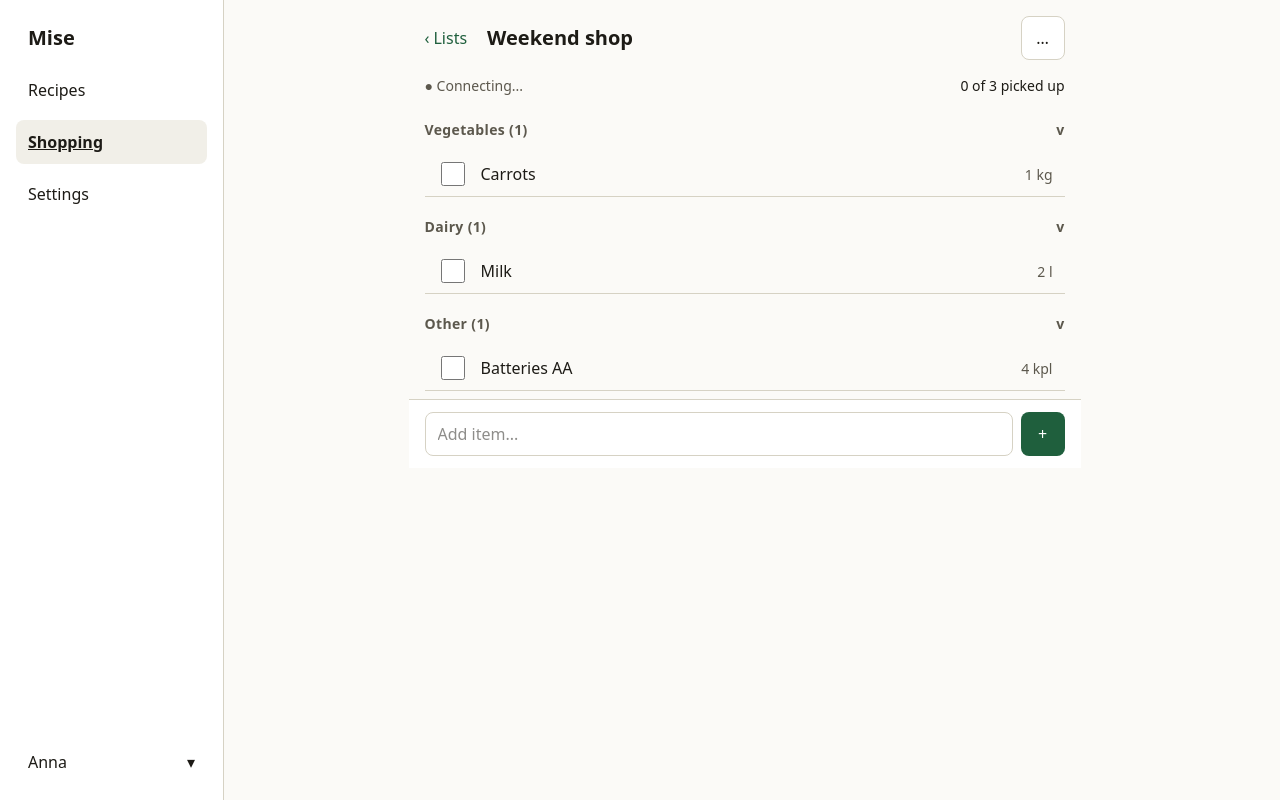
Test: adding an item (FR-35, FR-36, FR-39) › FR-35: a failed placeholder is announced as an alert
Expected: the text "Milk" is shown, [480, 259, 512, 283]
Type "Maito" into the field with test id "add-item-input" at [718, 434], box [424, 412, 1012, 456]
Then press Enter
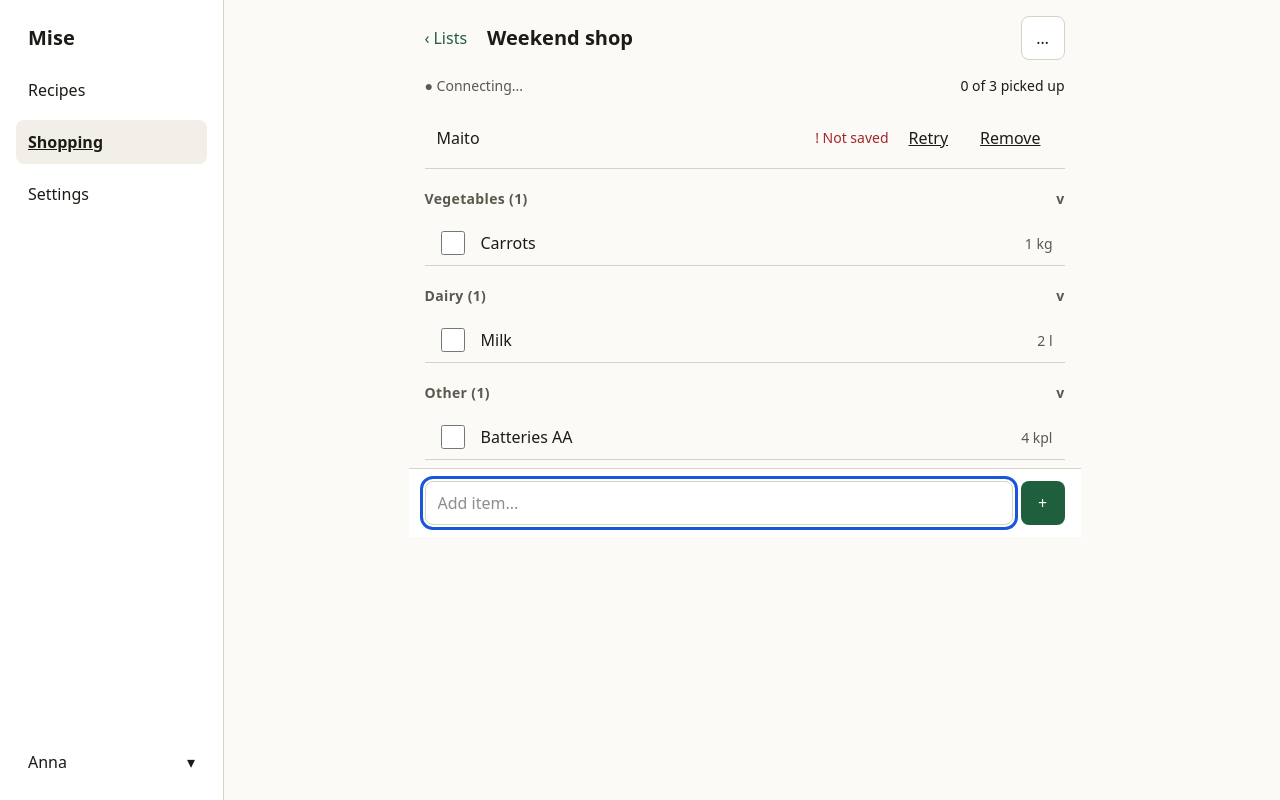
Expected: the message "! Not saved" is shown, [815, 128, 888, 148]
